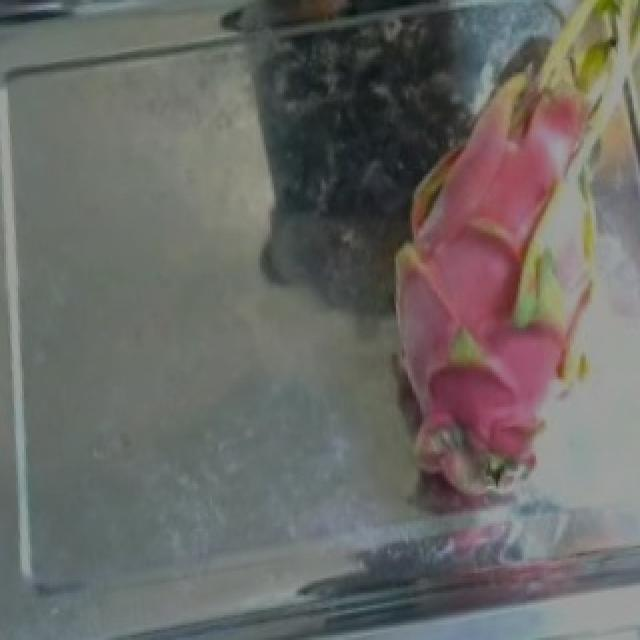fruit: (332, 112, 640, 530)
